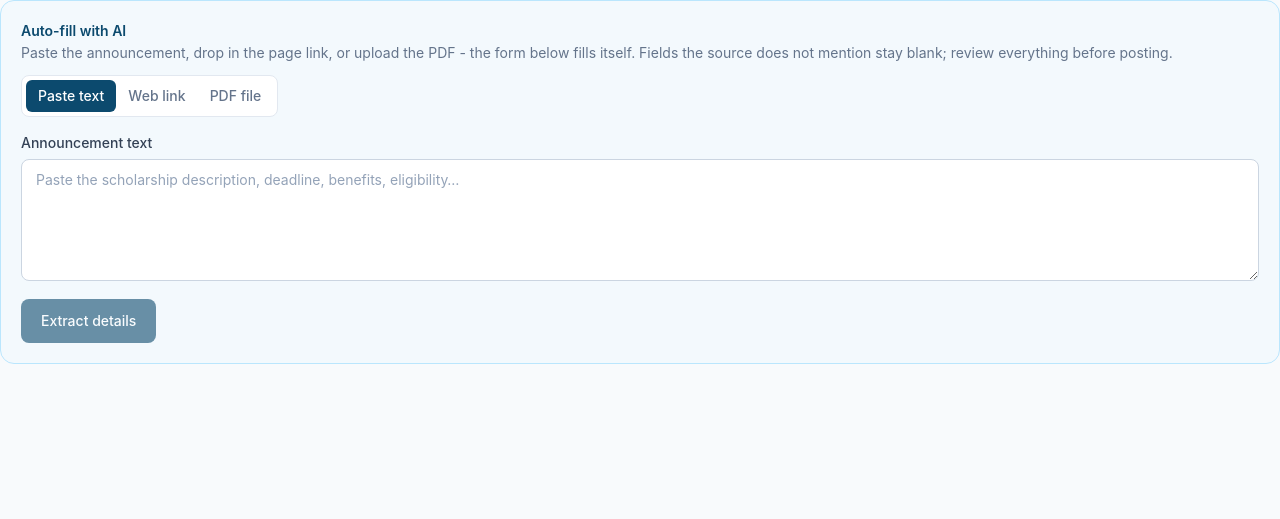
Scenario: ScholarshipExtract › warns when the scholarship likely already exists
This screenshot has width=1280, height=519.
In the text box labelled "Announcement text": (640, 220) [21,159,1259,281], type "The Example Fellowship 2027 offers fully funded masters study in Germany. Deadline 1 March 2027."
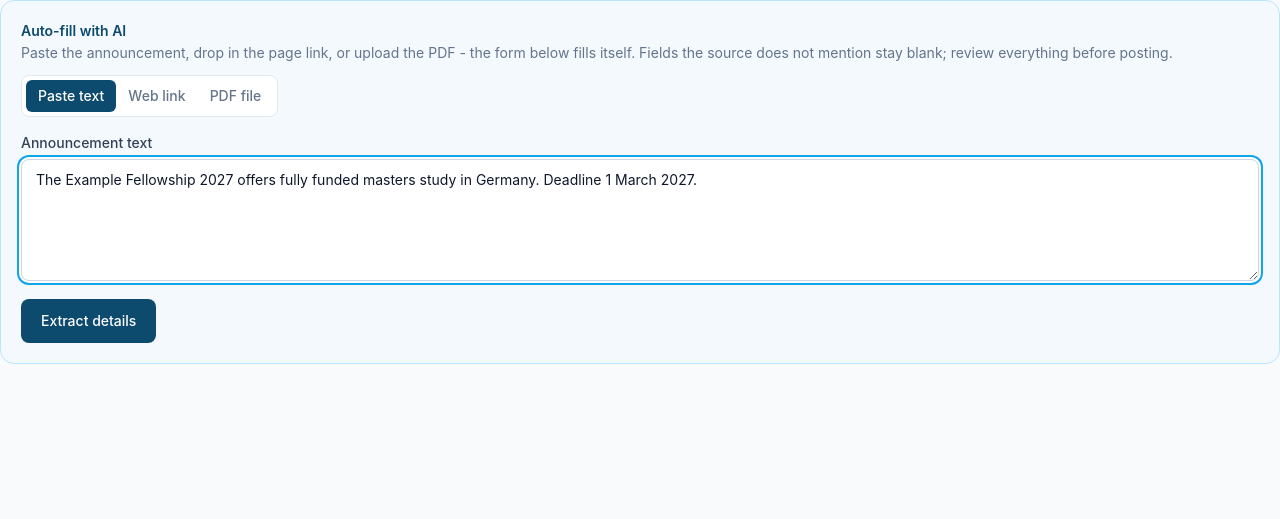
Click the button "Extract details": (89, 321) [21,299,156,343]
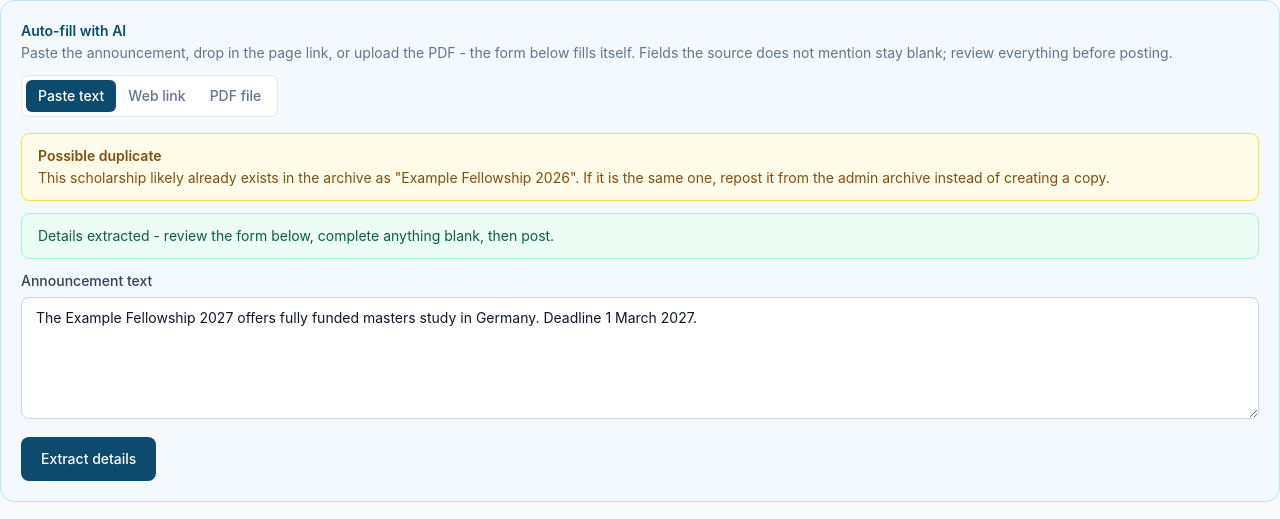
Result: the text "Possible duplicate" is shown at [38,147,162,164]
Result: the text "\"Example Fellowship 2026\"" is shown at [38,168,1242,188]
